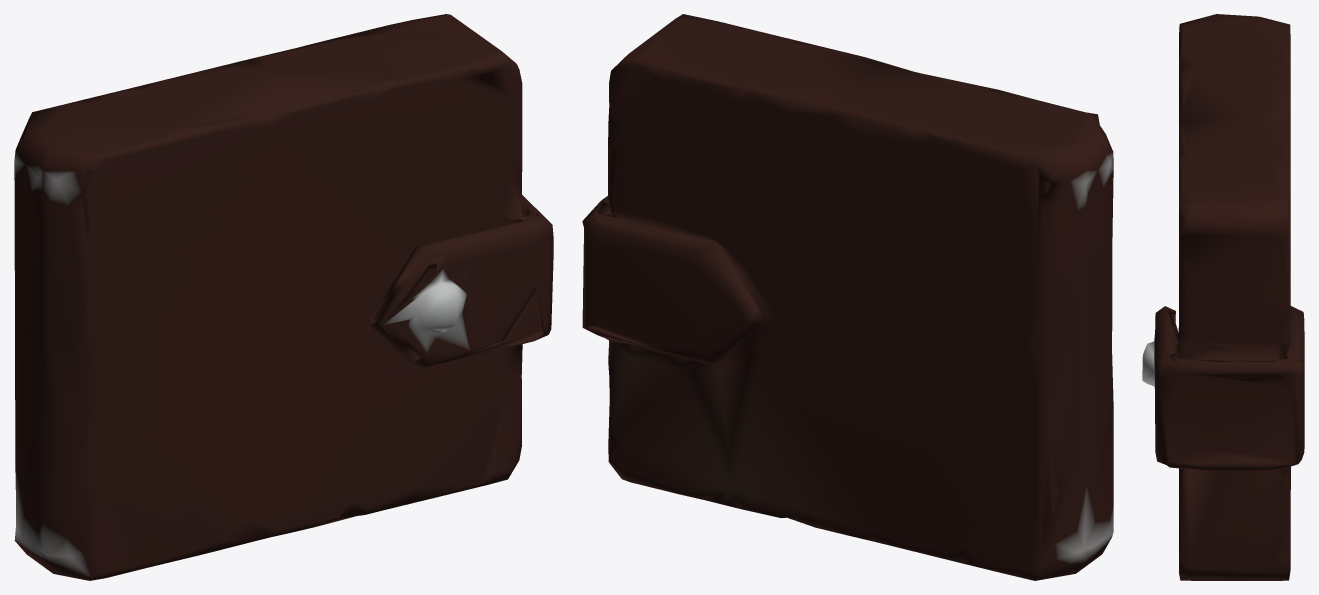
The model's file is gen3d-wallet-lod0.glb.
The picture shows the model from 3 angles, left to right: view 1: azimuth 30°, elevation 25°; view 2: azimuth 150°, elevation 25°; view 3: azimuth 270°, elevation 25°; orthographic projection. The views are drawn at different scales.
Parts seen in each view (by area): view 1: part_0; view 2: part_0; view 3: part_0.
Boxes of the visible parts, left/top/right/bottom form: part_0: left=14, top=14, right=553, bottom=580; part_0: left=582, top=14, right=1113, bottom=580; part_0: left=1142, top=14, right=1304, bottom=580.
Bounding box in the file's own units: 1.2 × 1 × 0.389.
